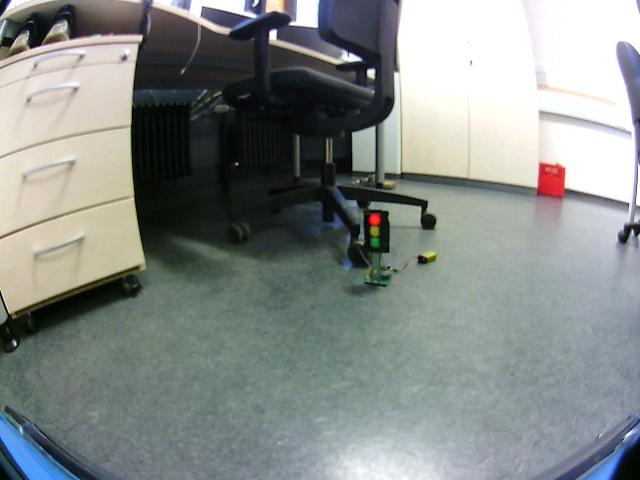red trafficlight: (365, 213, 384, 251)
